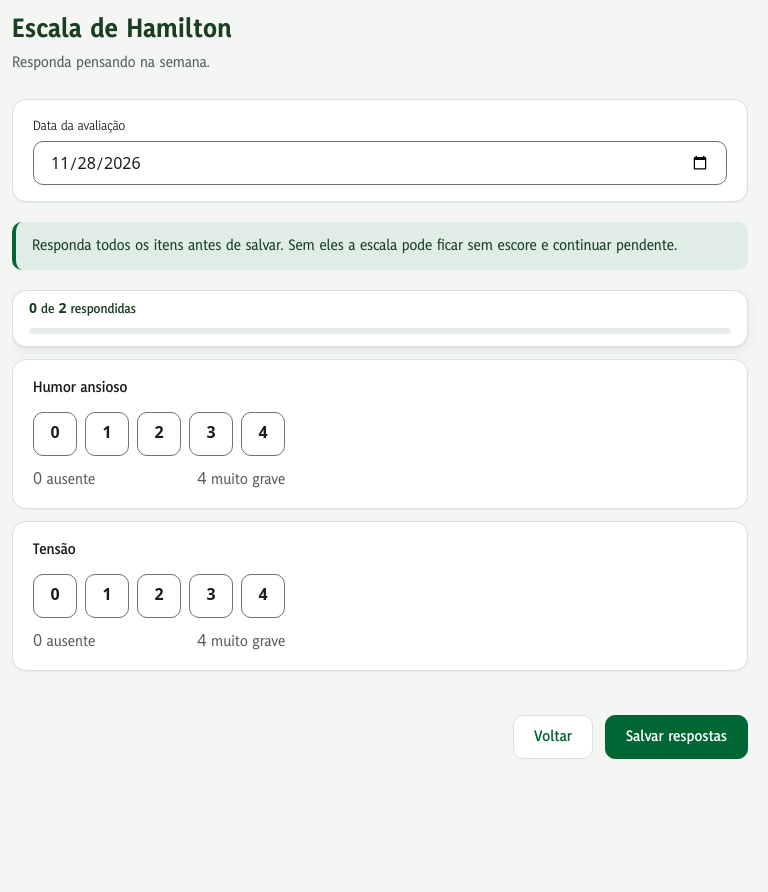
Test case: Escala › salvar com item em branco leva o foco pro primeiro item q falta
The image size is (768, 892).
Click the radio button labelled "2" below "Tensão": (159, 596) [137, 574, 181, 618]
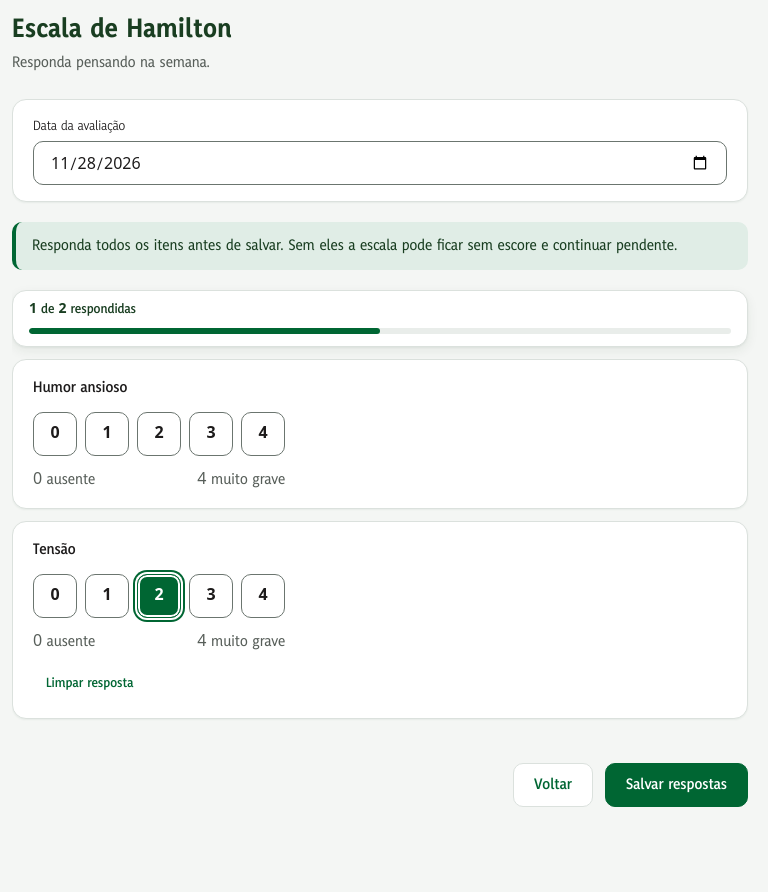
Now the text "1 de 2 respondidas" is shown, box [29, 300, 136, 318]
Click the button "Salvar respostas": (676, 785) [605, 763, 748, 807]
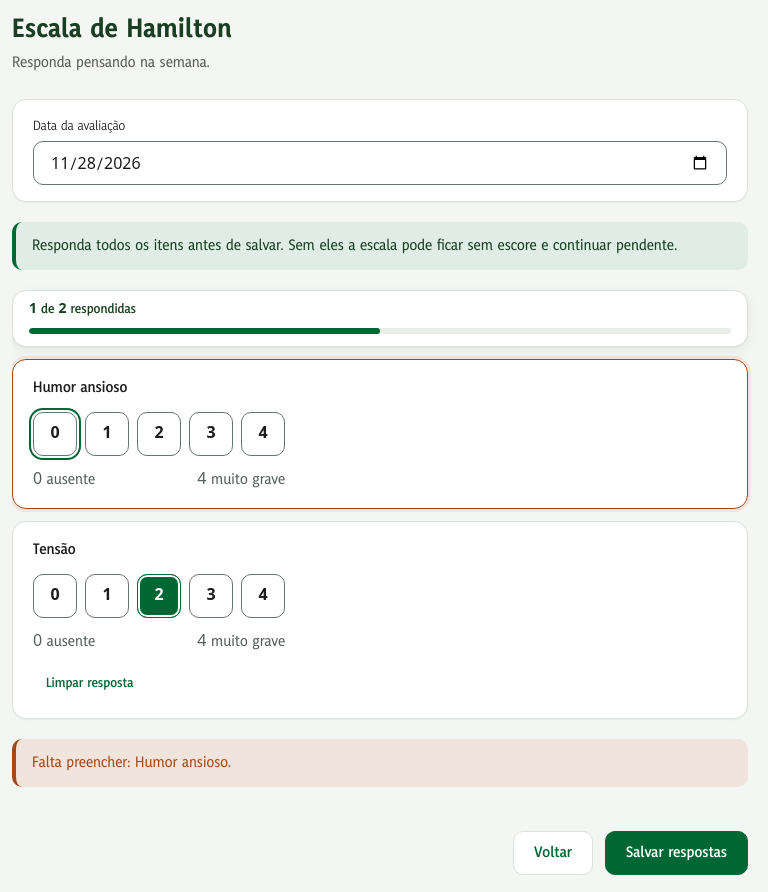
Now the message "Falta preencher: Humor ansioso." is shown, box [12, 739, 748, 787]
